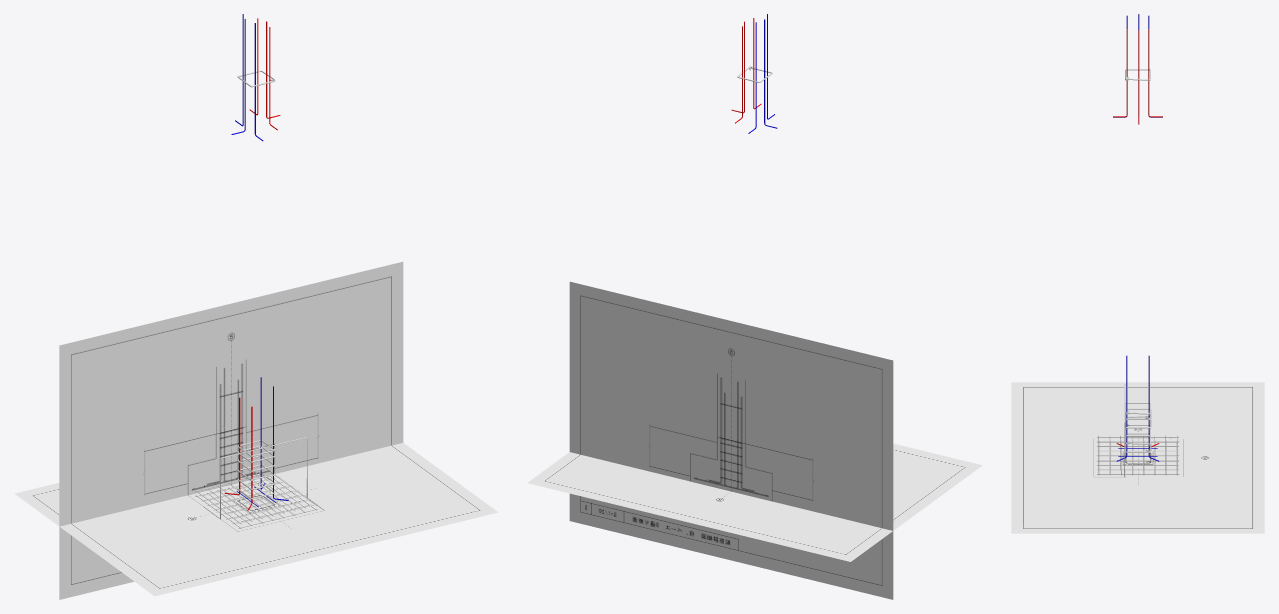
Rendered from 04柱完成.glb.
3 views of the same model, side by side, from view 1: azimuth 30°, elevation 25°; view 2: azimuth 150°, elevation 25°; view 3: azimuth 270°, elevation 25° (orthographic). The views are drawn at different scales.
Visible parts, largest first — view 1: 平面.001, 平面, 1360.012; view 2: 平面.001, 平面; view 3: 平面, 1360.012.
Boxes of the visible parts, <box> form: 平面.001: <box>59,261,403,599</box>; 平面: <box>15,443,498,596</box>; 1360.012: <box>195,472,317,524</box>; 平面.001: <box>569,281,893,599</box>; 平面: <box>527,443,982,561</box>; 平面: <box>1011,382,1264,533</box>; 1360.012: <box>1097,435,1178,470</box>.
Bounding box in the file's own units: 5940 × 9233 × 4200.
7 materials, 2 textured.
